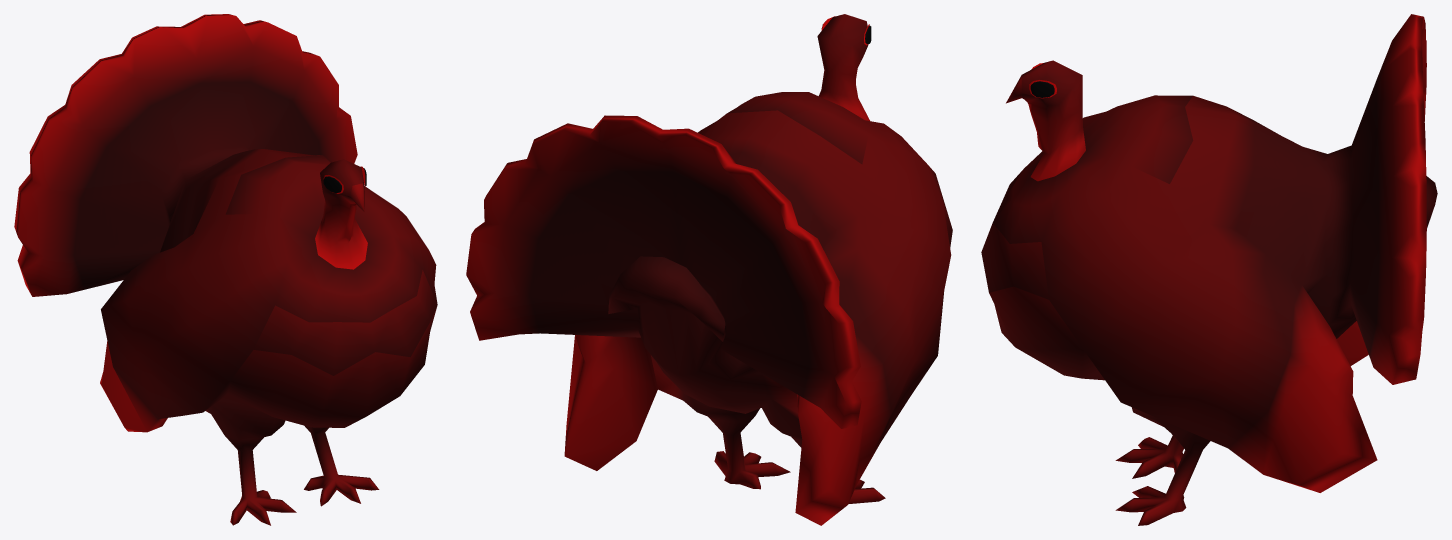
Rendered from turkey.fbx.
3 views of the same model, side by side, from view 1: azimuth 30°, elevation 25°; view 2: azimuth 150°, elevation 25°; view 3: azimuth 270°, elevation 25° (orthographic). The views are drawn at different scales.
Parts seen in each view (by area): view 1: base.095; view 2: base.095; view 3: base.095.
Boxes of the visible parts, bbox=[...] form: base.095: bbox=[14, 14, 437, 525]; base.095: bbox=[466, 14, 952, 525]; base.095: bbox=[981, 14, 1437, 525].
Size of the model in its own units: 67.42 by 75.39 by 69.37.
